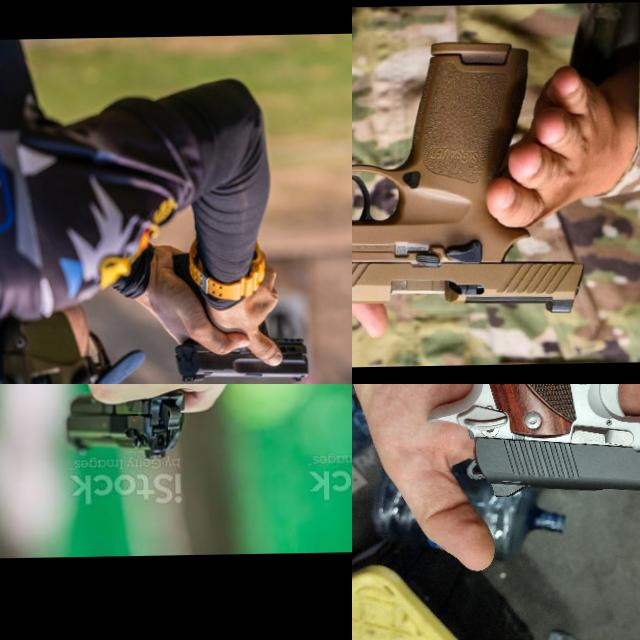handgun: (352, 36, 590, 322), (416, 384, 640, 540), (166, 316, 313, 384), (58, 386, 186, 461)
